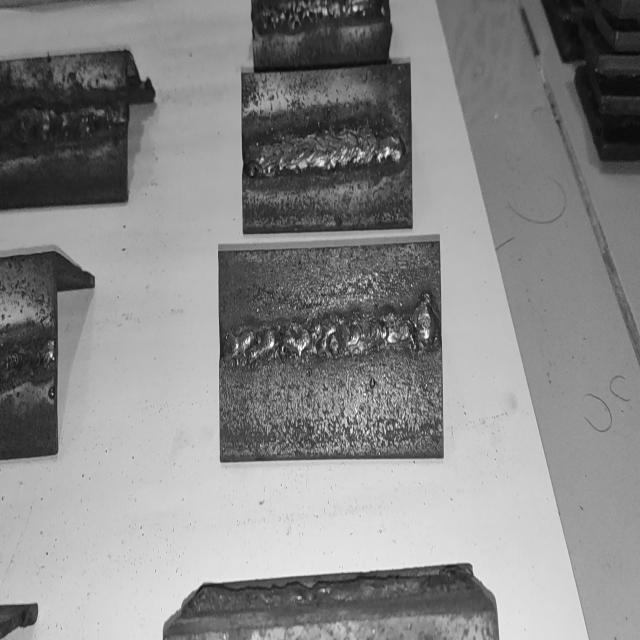Defect: (222, 304, 439, 364), (258, 0, 370, 36), (0, 342, 56, 379), (370, 121, 404, 169)
Welding Line: (223, 307, 439, 365), (245, 120, 406, 175), (1, 100, 130, 142), (253, 0, 379, 33), (0, 340, 57, 382)
Workpiece: (218, 245, 448, 460), (241, 63, 411, 236), (0, 51, 129, 213), (0, 248, 60, 460)
